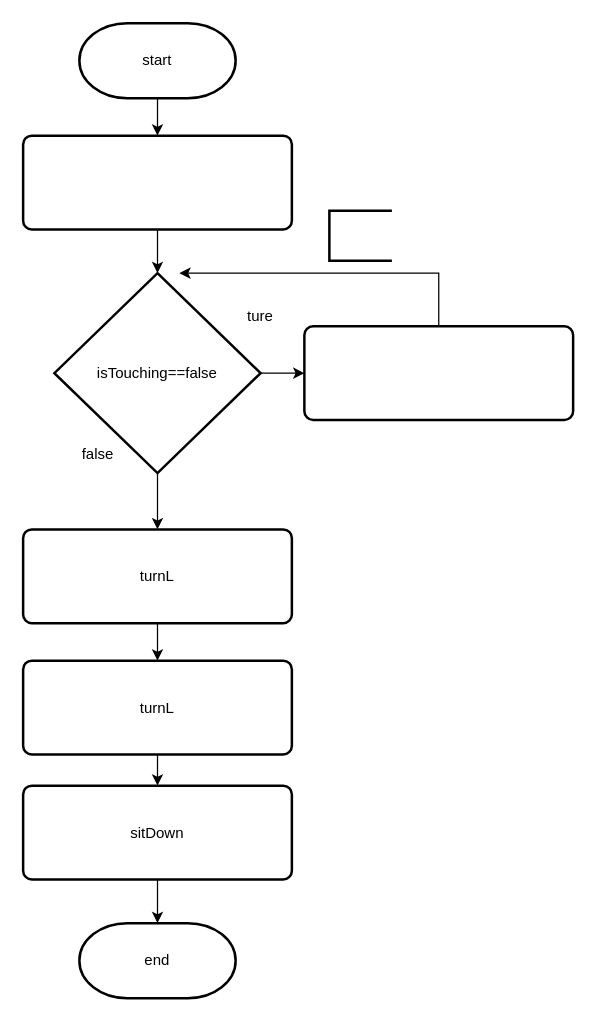
Image size: 595x1020. Some labels were removed from this diagram. Here are the shapes that lost their labels. From the top down, the centre of each, then its label:
At (x=156, y=182): "standUp".
At (x=360, y=235): "//their are comments explaining //some of my logic in Psuedo code".
At (x=438, y=372): "takeAStep".
